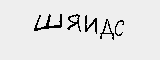Д: (98, 17, 116, 39)
И: (82, 14, 99, 35)
С: (113, 17, 126, 39)
Ш: (30, 12, 64, 31)
Я: (62, 13, 83, 32)
